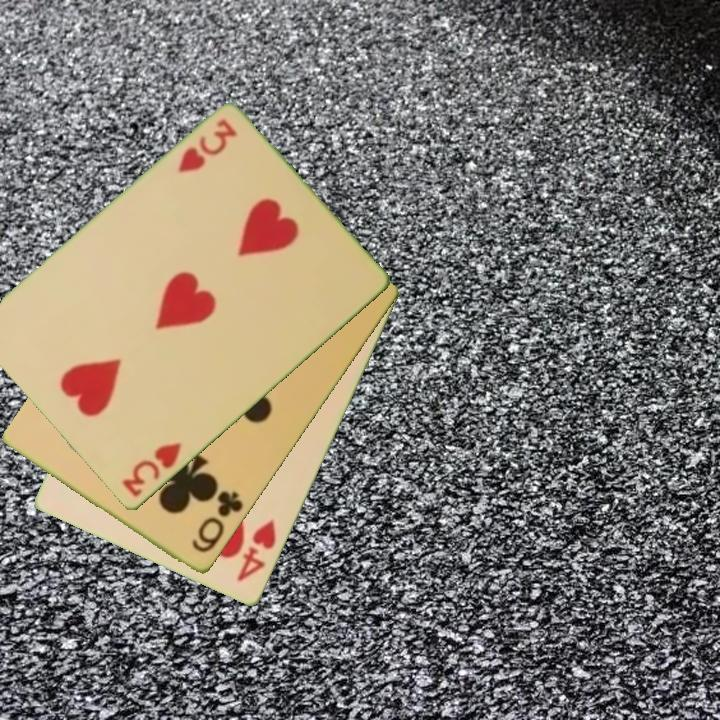3h: (118, 439, 185, 501), (174, 116, 241, 177)
4h: (233, 516, 279, 585)
6c: (188, 487, 247, 557)
